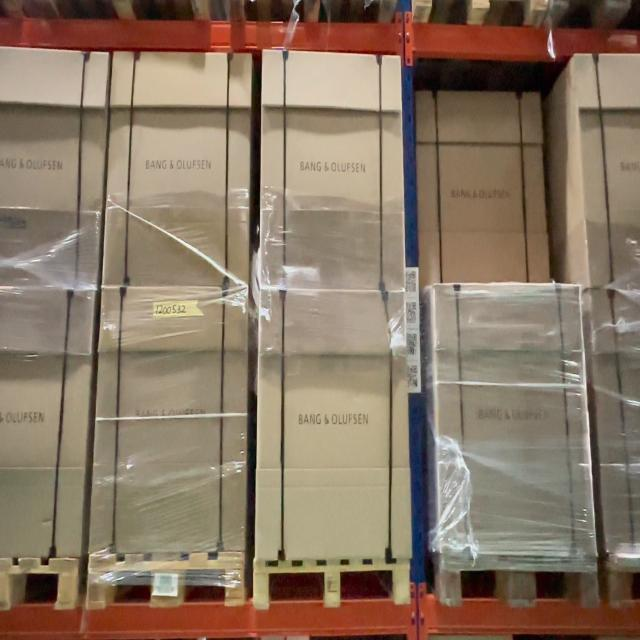box: (435, 287, 582, 556), (262, 300, 407, 560), (102, 292, 244, 552), (115, 54, 248, 290), (264, 51, 396, 285), (419, 98, 542, 280)
